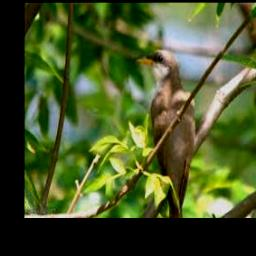Cuckoo: (133, 49, 195, 217)
